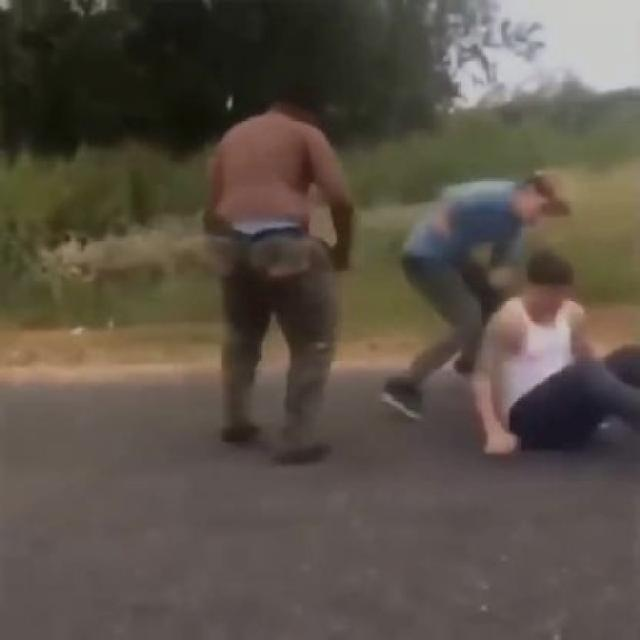fight: (371, 145, 637, 469)
non-fight: (208, 0, 362, 469)
